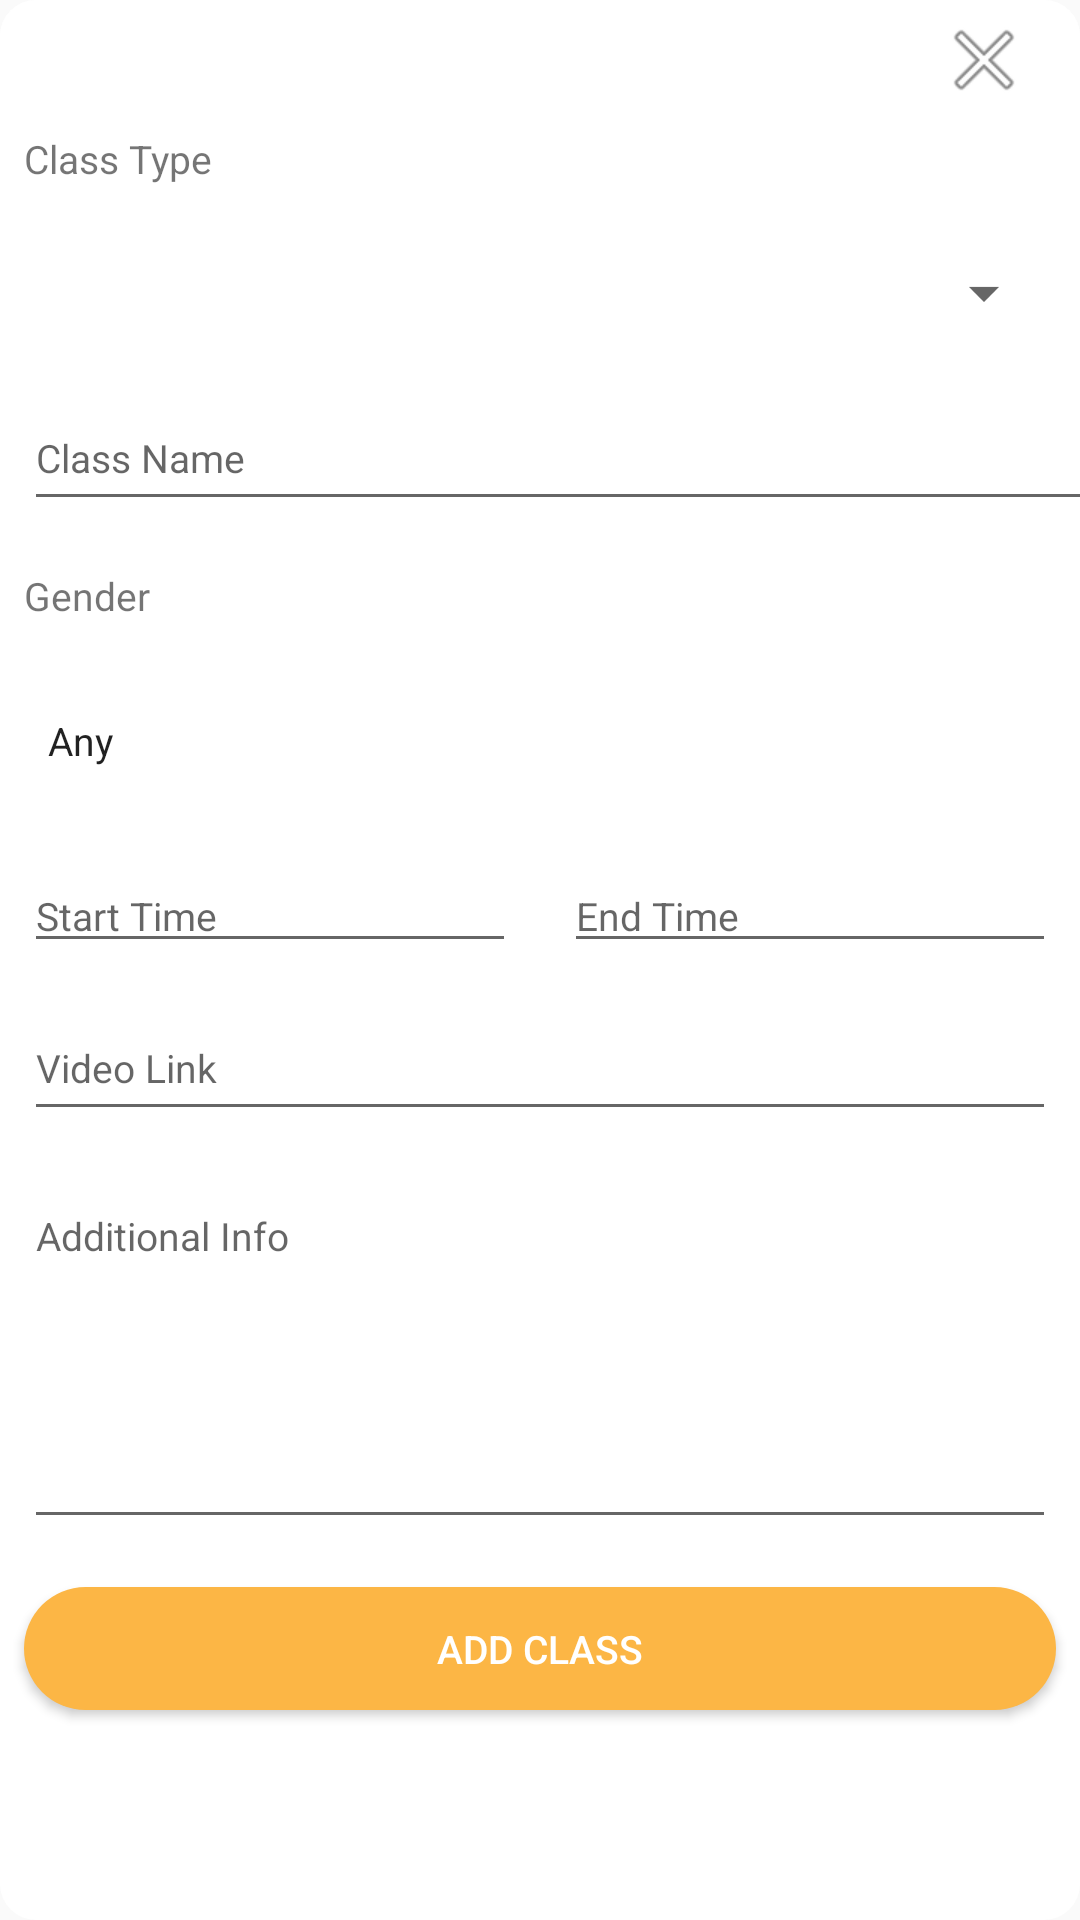

Locate icon controls on the screen. Image size 1080px×1920px, boxes as (x1, y1, x2, y2).
close clear cancel: (954, 30, 1014, 90)
